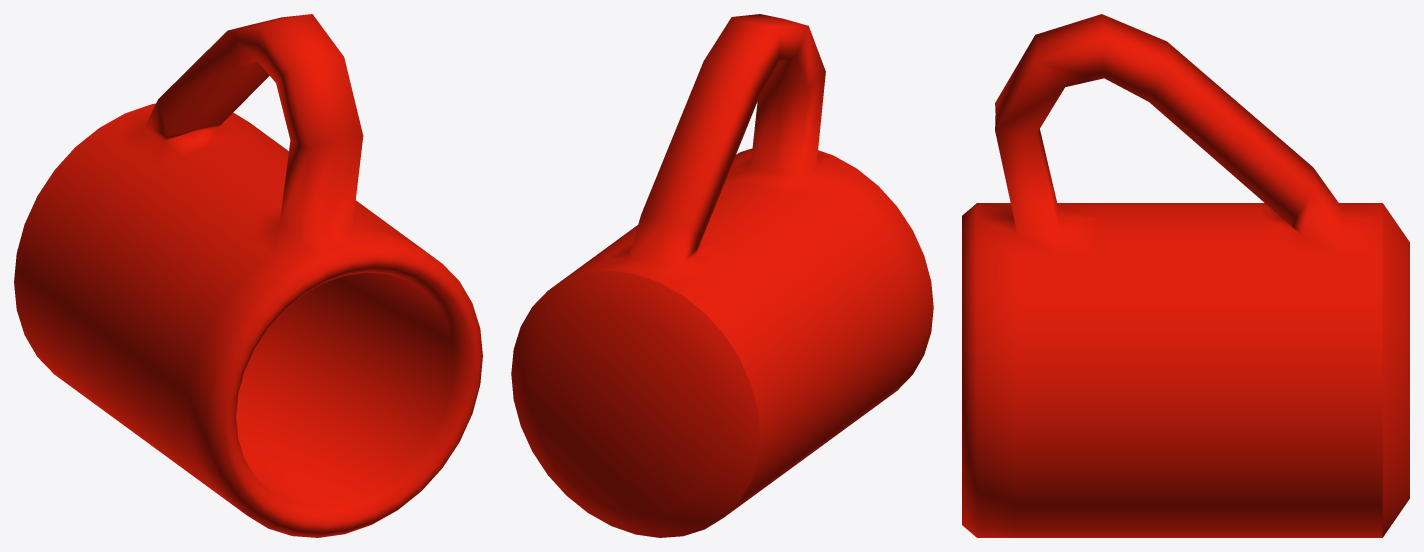
Rendered from TzaMod2.fbx.
3 views of the same model, side by side, from view 1: azimuth 30°, elevation 25°; view 2: azimuth 150°, elevation 25°; view 3: azimuth 270°, elevation 25° (orthographic). The views are drawn at different scales.
Visible parts, largest first — view 1: Cube.002; view 2: Cube.002; view 3: Cube.002.
Boxes of the visible parts, <box> form: Cube.002: <box>14,14,482,537</box>; Cube.002: <box>511,14,933,537</box>; Cube.002: <box>962,14,1409,537</box>.
Bounding box in the file's own units: 2.61 × 4.26 × 3.49.
